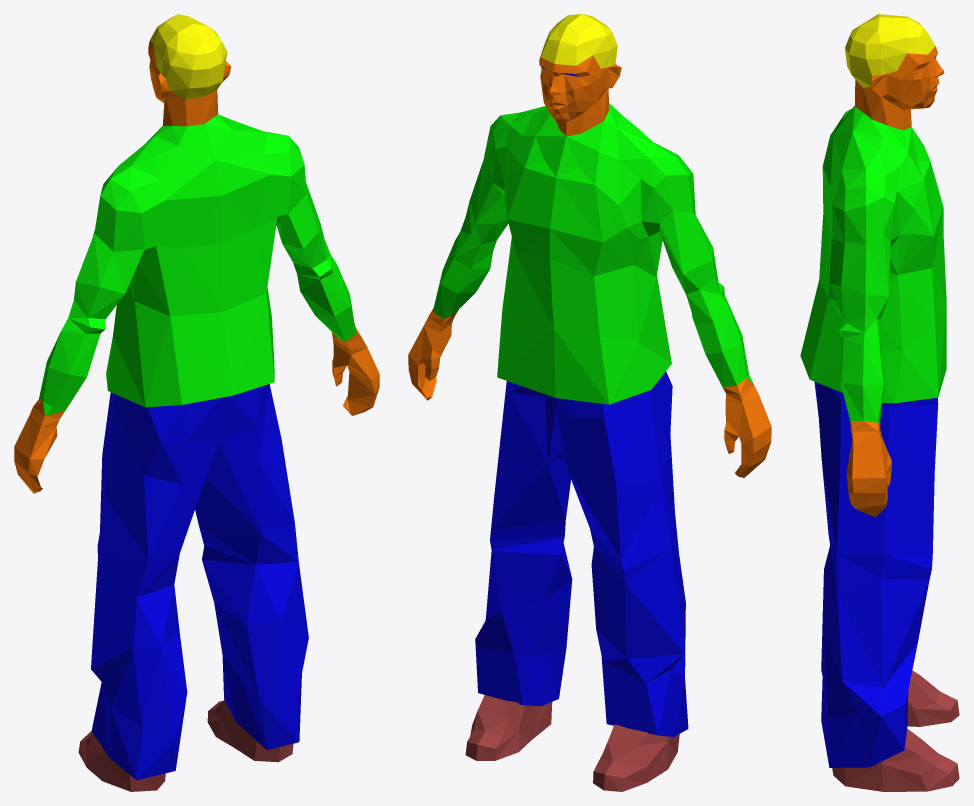
Rendered from human0.fbx.
3 renders of one model, left to right at view 1: azimuth 30°, elevation 25°; view 2: azimuth 150°, elevation 25°; view 3: azimuth 270°, elevation 25°, orthographic.
Visible parts, largest first — view 1: wavefront2_1, wavefront3_1, wavefront1_1, wavefront0_1, wavefront4_1; view 2: wavefront3_1, wavefront2_1, wavefront1_1, wavefront4_1, wavefront0_1; view 3: wavefront3_1, wavefront2_1, wavefront1_1, wavefront4_1, wavefront0_1.
Part boxes in pixels (x1=…): wavefront2_1: x1=91, y1=384, x2=308, y2=780; wavefront3_1: x1=39, y1=114, x2=356, y2=415; wavefront1_1: x1=14, y1=40, x2=379, y2=493; wavefront0_1: x1=150, y1=14, x2=227, y2=99; wavefront4_1: x1=78, y1=700, x2=293, y2=791; wavefront3_1: x1=433, y1=103, x2=753, y2=404; wavefront2_1: x1=475, y1=66, x2=688, y2=736; wavefront1_1: x1=408, y1=47, x2=771, y2=477; wavefront4_1: x1=465, y1=695, x2=679, y2=791; wavefront0_1: x1=541, y1=14, x2=617, y2=68; wavefront3_1: x1=800, y1=106, x2=946, y2=422; wavefront2_1: x1=814, y1=381, x2=938, y2=767; wavefront1_1: x1=846, y1=46, x2=944, y2=517; wavefront4_1: x1=832, y1=670, x2=959, y2=791; wavefront0_1: x1=845, y1=14, x2=935, y2=87.
Bounding box in the file's own units: 0.4582 × 0.9215 × 0.1818.
